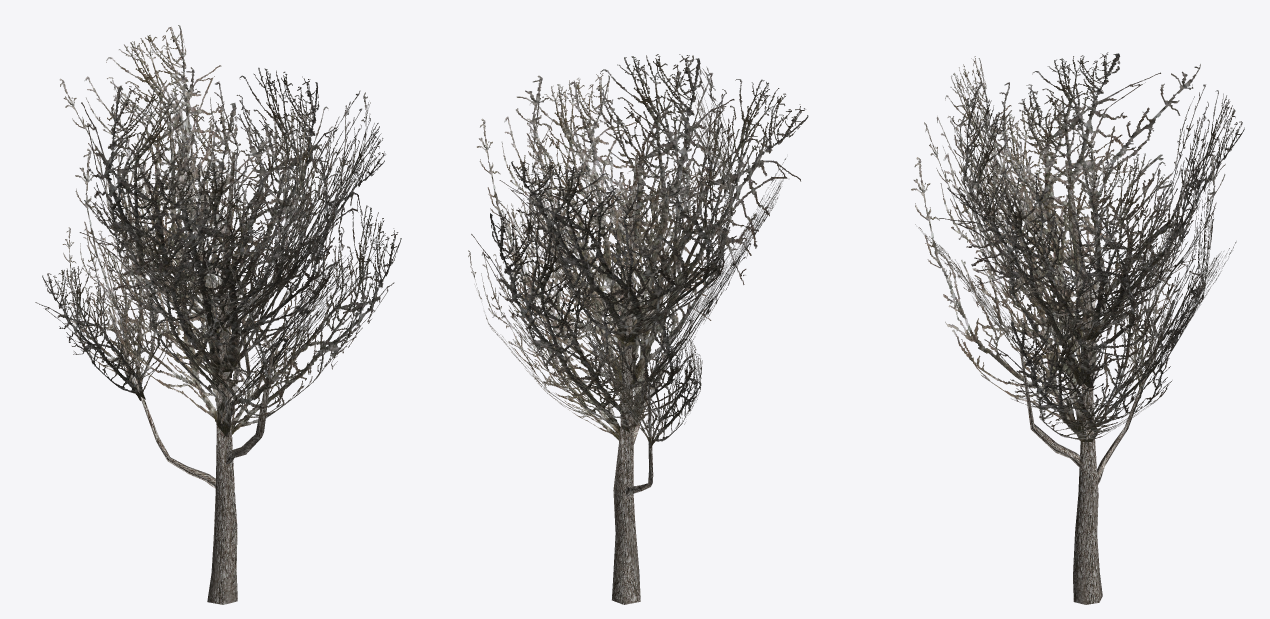
File: tree_deciduous_large2_snowy.fbx
3 renders of one model, left to right at view 1: azimuth 30°, elevation 25°; view 2: azimuth 150°, elevation 25°; view 3: azimuth 270°, elevation 25°, orthographic. The views are drawn at different scales.
Visible parts, largest first — view 1: mesh_10, mesh_0, mesh_5, mesh_3, mesh_6, mesh_2, mesh_8, mesh_1, mesh_11, mesh_13, mesh_12, mesh_7 (+3 smaller); view 2: mesh_1, mesh_10, mesh_8, mesh_3, mesh_12, mesh_13, mesh_6, mesh_0, mesh_7, mesh_11, mesh_5, mesh_2 (+2 smaller); view 3: mesh_0, mesh_5, mesh_12, mesh_3, mesh_2, mesh_6, mesh_10, mesh_8, mesh_1, mesh_13, mesh_7, mesh_11 (+3 smaller).
Part boxes in pixels (box(x1,y1,x2,y2)): mesh_10: box(119, 157, 338, 379); mesh_0: box(81, 85, 287, 334); mesh_5: box(79, 199, 283, 437); mesh_3: box(59, 25, 228, 338); mesh_6: box(229, 189, 401, 434); mesh_2: box(161, 67, 336, 318); mesh_8: box(75, 101, 278, 435); mesh_1: box(221, 92, 370, 331); mesh_11: box(35, 260, 168, 400); mesh_13: box(207, 153, 237, 604); mesh_12: box(227, 90, 385, 381); mesh_7: box(223, 233, 385, 438); mesh_1: box(516, 54, 734, 346); mesh_10: box(598, 55, 808, 390); mesh_8: box(471, 212, 693, 432); mesh_3: box(499, 161, 728, 344); mesh_12: box(477, 73, 658, 386); mesh_13: box(612, 155, 640, 604); mesh_6: box(468, 198, 619, 440); mesh_0: box(623, 66, 732, 346); mesh_7: box(540, 165, 726, 431); mesh_11: box(642, 308, 702, 448); mesh_5: box(630, 158, 785, 429); mesh_2: box(529, 100, 626, 347); mesh_0: box(951, 52, 1160, 344); mesh_5: box(911, 100, 1121, 440); mesh_12: box(939, 186, 1150, 388); mesh_3: box(1069, 64, 1244, 343); mesh_2: box(1050, 153, 1225, 341); mesh_6: box(984, 312, 1174, 442); mesh_10: box(924, 56, 1085, 388); mesh_8: box(1085, 151, 1213, 437); mesh_1: box(961, 87, 1091, 344); mesh_13: box(1065, 160, 1102, 604); mesh_7: box(915, 224, 1087, 445); mesh_11: box(1120, 230, 1195, 389).
Bounding box in the file's own units: 958 × 1462 × 977.
2 materials, 2 textured.
